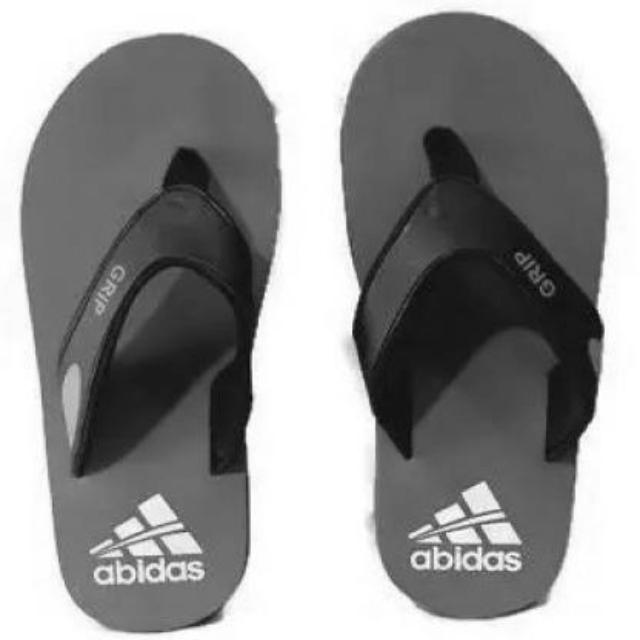ADIDAS_fake: (396, 478, 544, 590), (86, 480, 214, 596)
